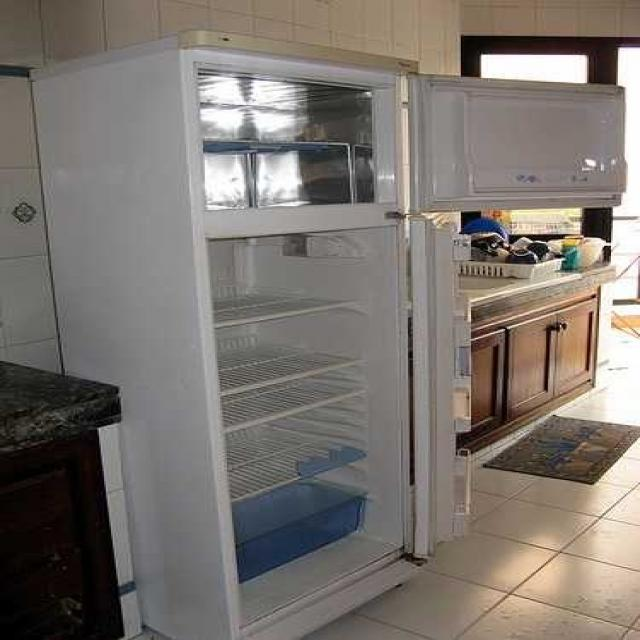refrigerator: (34, 40, 424, 606)
